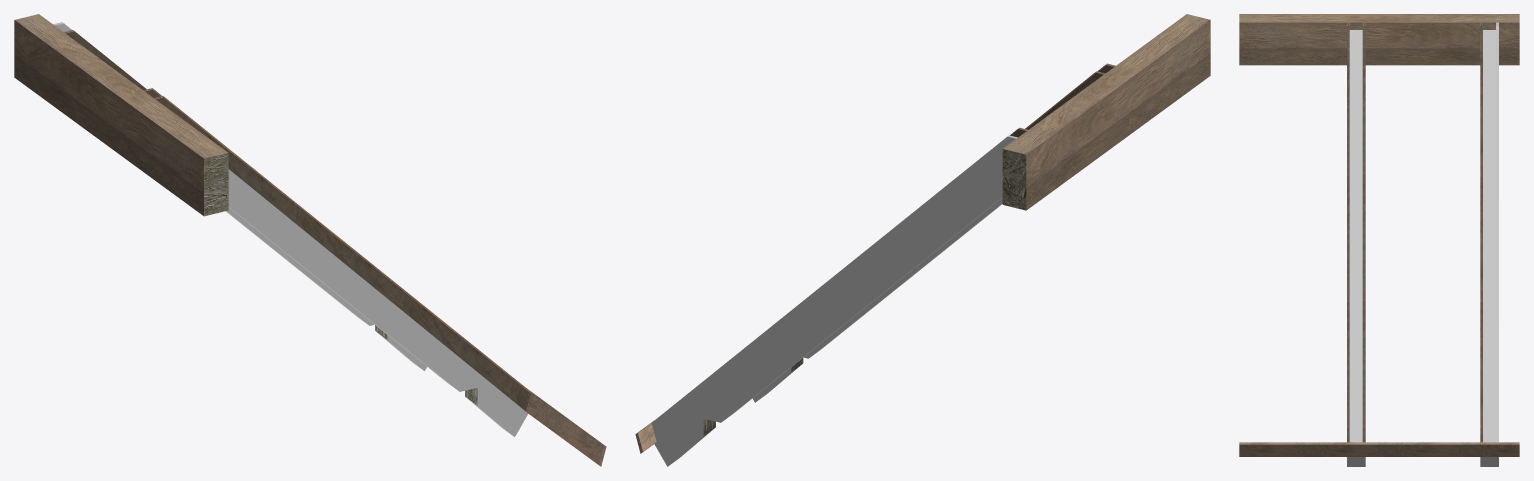
Rendered from RafterMidA.fbx.
The picture shows the model from 3 angles, left to right: view 1: azimuth 30°, elevation 25°; view 2: azimuth 150°, elevation 25°; view 3: azimuth 270°, elevation 25°; orthographic projection. The views are drawn at different scales.
Visible parts, largest first — view 1: RafterMidA; view 2: RafterMidA; view 3: RafterMidA.
Part boxes in pixels (x1,y1,x2,y2): RafterMidA: (14,14,606,466); RafterMidA: (635,14,1210,466); RafterMidA: (1239,14,1519,466).
Bounding box in the file's own units: 495 × 500 × 404.
